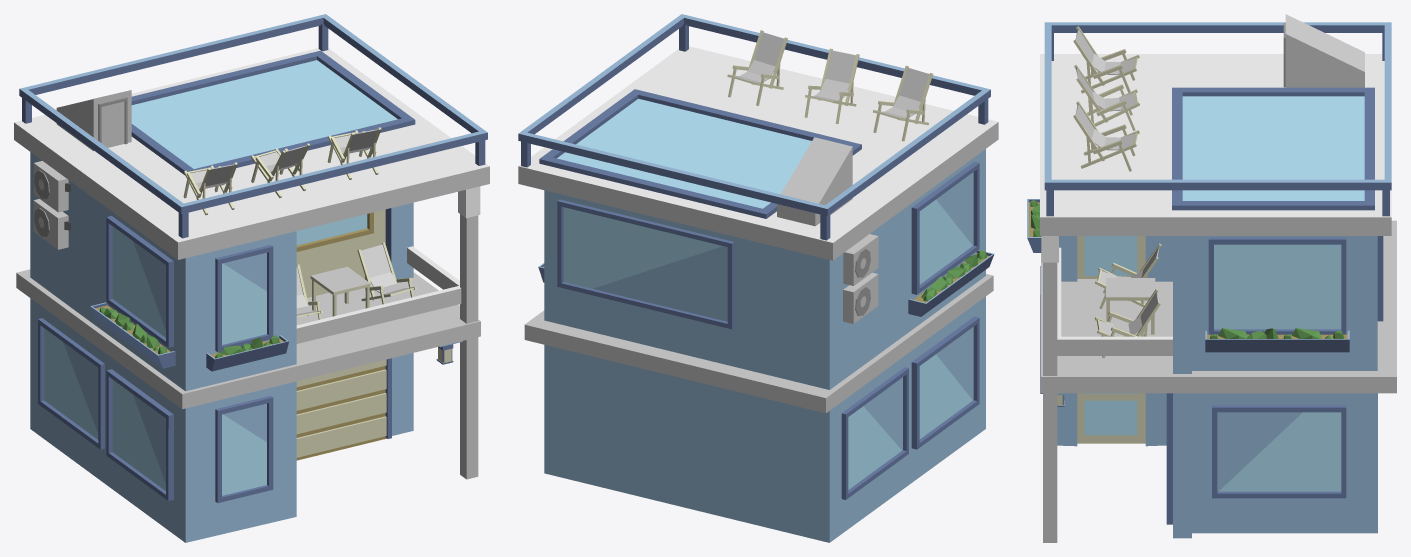
The model's file is cottage_009.fbx.
3 renders of one model, left to right at view 1: azimuth 30°, elevation 25°; view 2: azimuth 150°, elevation 25°; view 3: azimuth 270°, elevation 25°, orthographic. The views are drawn at different scales.
Visible parts, largest first — view 1: cottage_009; view 2: cottage_009; view 3: cottage_009.
Part boxes in pixels (left/top/right/bottom): cottage_009: left=14, top=14, right=489, bottom=542; cottage_009: left=518, top=14, right=998, bottom=542; cottage_009: left=1027, top=14, right=1396, bottom=542.
Size of the model in its own units: 682 by 735 by 637.
